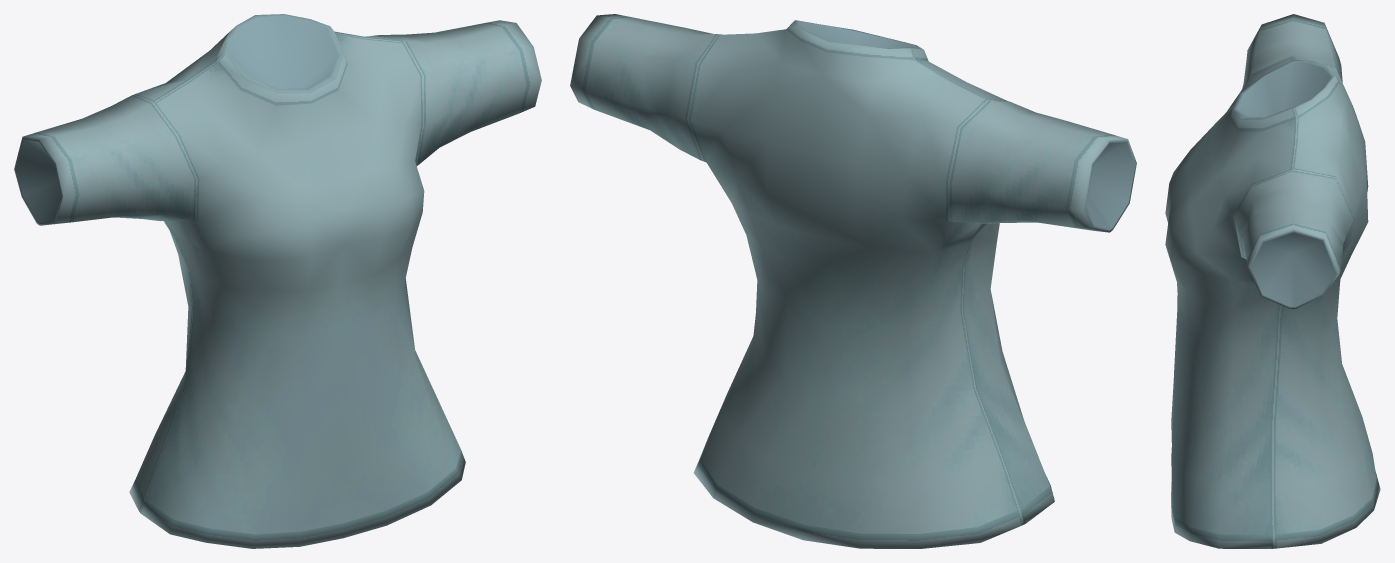
Rendered from product-1.gltf.
3 renders of one model, left to right at view 1: azimuth 30°, elevation 25°; view 2: azimuth 150°, elevation 25°; view 3: azimuth 270°, elevation 25°, orthographic. The views are drawn at different scales.
Visible parts, largest first — view 1: node_id49; view 2: node_id49; view 3: node_id49.
Boxes of the visible parts, left/top/right/bottom form: node_id49: left=14, top=14, right=541, bottom=548; node_id49: left=570, top=14, right=1136, bottom=548; node_id49: left=1165, top=14, right=1380, bottom=548.
Bounding box in the file's own units: 0.512 × 0.4672 × 0.2144.
1 material, 1 textured.
